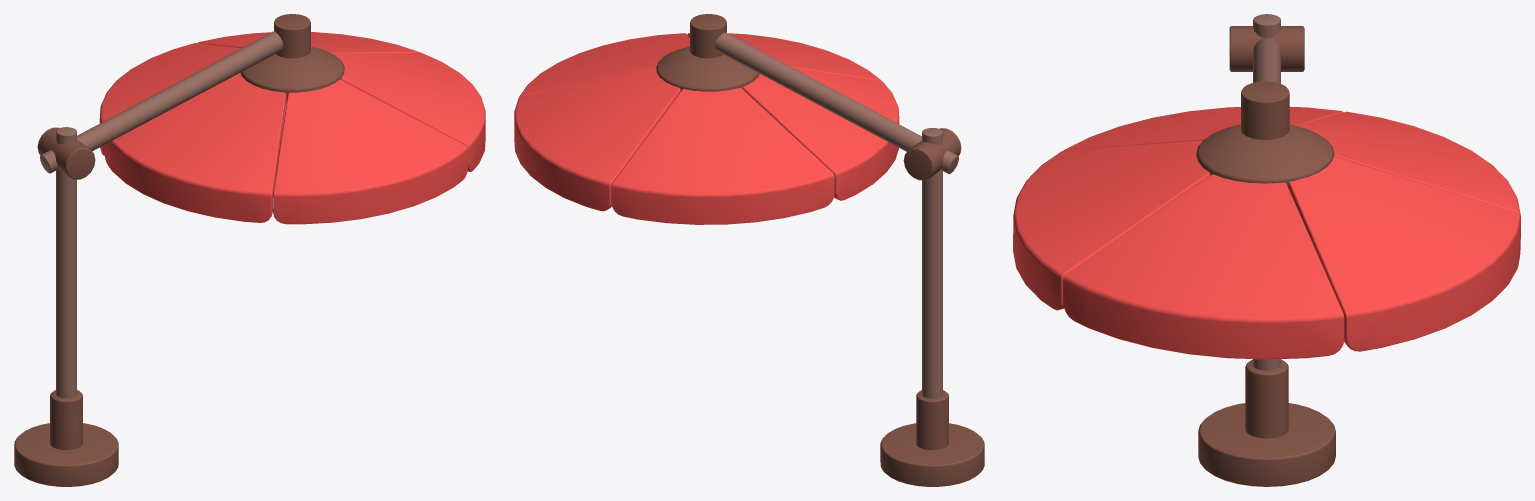
The model's file is Town_18_Umbrella_1.glb.
3 renders of one model, left to right at view 1: azimuth 30°, elevation 25°; view 2: azimuth 150°, elevation 25°; view 3: azimuth 270°, elevation 25°, orthographic. The views are drawn at different scales.
Visible parts, largest first — view 1: Town_18_Umbrella_1; view 2: Town_18_Umbrella_1; view 3: Town_18_Umbrella_1.
Boxes of the visible parts, x1,y1,x2,y2 form: Town_18_Umbrella_1: (14, 14, 485, 486); Town_18_Umbrella_1: (514, 14, 984, 486); Town_18_Umbrella_1: (1013, 14, 1520, 486).
Bounding box in the file's own units: 2.99 × 2.54 × 2.28.
1 material, 1 textured.
